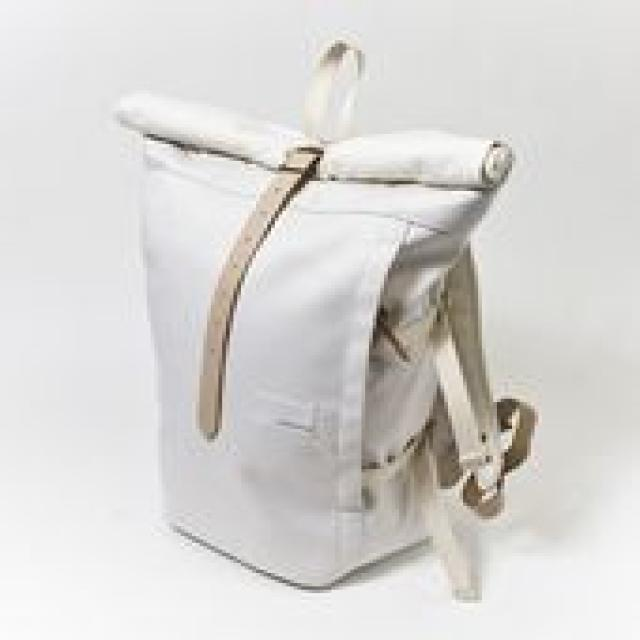backpack: (114, 38, 536, 601)
